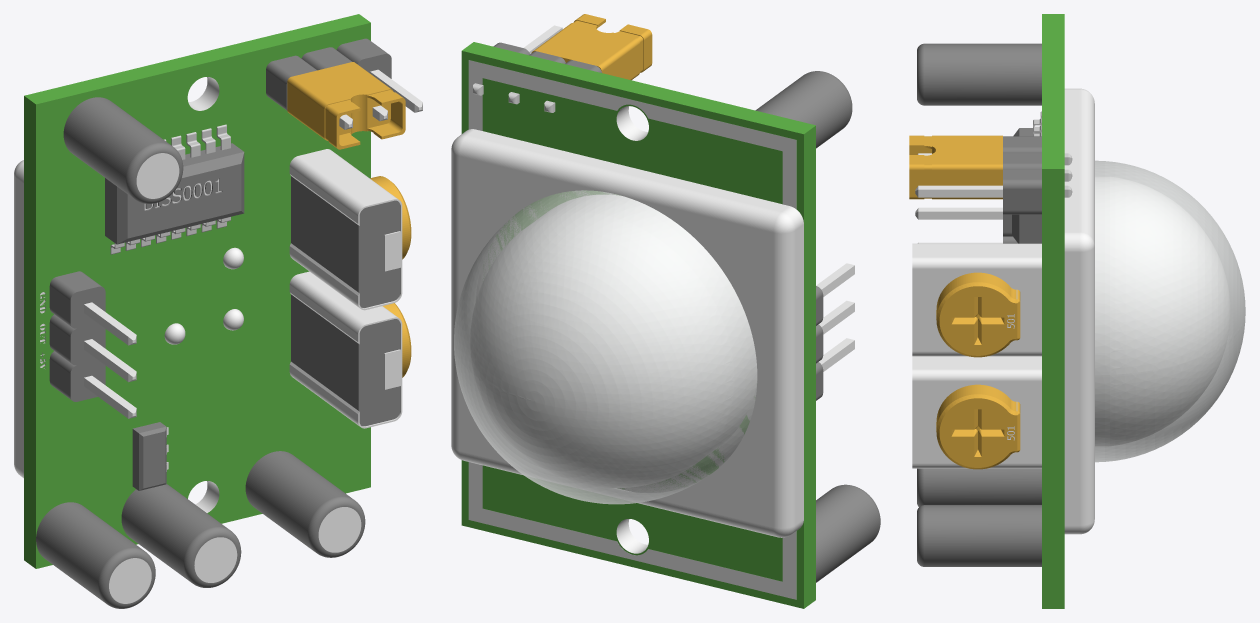
Rendered from pir_sensor_hcsr501.glb.
The picture shows the model from 3 angles, left to right: view 1: azimuth 30°, elevation 25°; view 2: azimuth 150°, elevation 25°; view 3: azimuth 270°, elevation 25°; orthographic projection. The views are drawn at different scales.
Parts seen in each view (by area): view 1: Node3, Node6, Node7, Node2, Node9, Node5, Node1; view 2: Node2, Node4, Node3, Node6, Node9, Node7; view 3: Node2, Node4, Node6, Node7, Node9, Node3, Node1.
Part boxes in pixels (box(x1,y1,x2,y2)): Node3: box(24, 14, 370, 568); Node6: box(36, 38, 399, 608); Node7: box(84, 69, 422, 471); Node2: box(14, 77, 361, 603); Node9: box(287, 62, 411, 377); Node5: box(110, 124, 230, 254); Node1: box(40, 102, 422, 418); Node2: box(451, 60, 803, 599); Node4: box(454, 190, 757, 504); Node3: box(461, 42, 815, 608); Node6: box(493, 42, 880, 582); Node9: box(531, 14, 652, 80); Node7: box(524, 25, 854, 371); Node2: box(1007, 88, 1229, 534); Node4: box(1095, 160, 1245, 462); Node6: box(917, 43, 1041, 566); Node7: box(912, 153, 1041, 468); Node9: box(909, 135, 1020, 469); Node3: box(1042, 14, 1064, 608); Node1: box(915, 153, 1072, 440).
Bounding box in the file's own units: 24.3 × 32.2 × 22.3.
